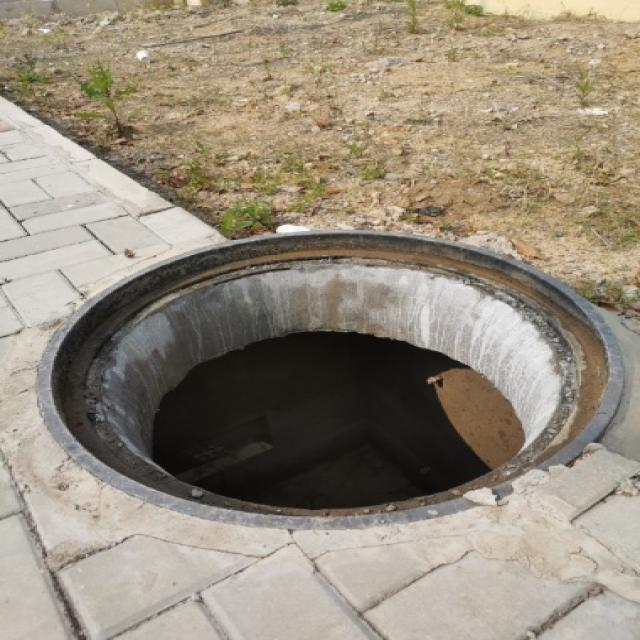Faulty: (24, 222, 635, 542)
